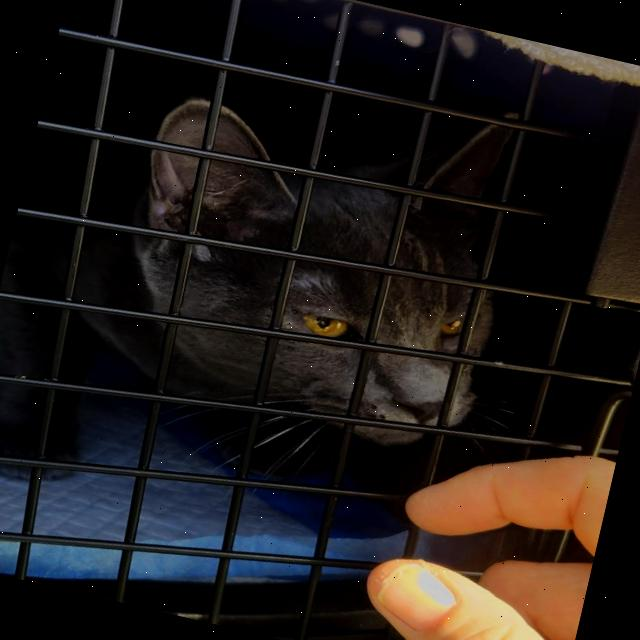russian_blue_cat: (79, 12, 561, 478)
